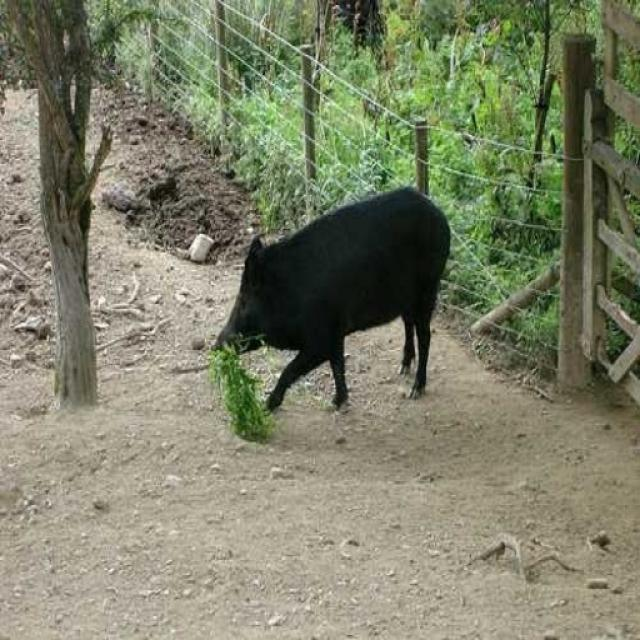pig: (207, 167, 470, 417)
